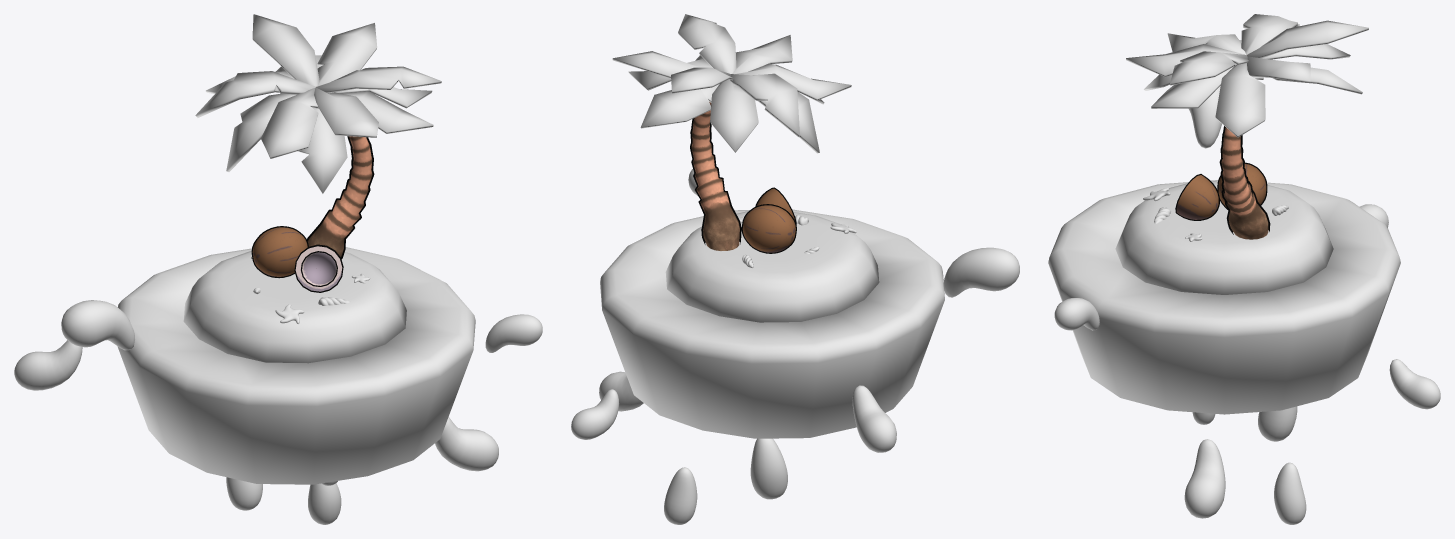
File: Coconut.fbx
The picture shows the model from 3 angles, left to right: view 1: azimuth 30°, elevation 25°; view 2: azimuth 150°, elevation 25°; view 3: azimuth 270°, elevation 25°; orthographic projection. The views are drawn at different scales.
Visible parts, largest first — view 1: Water, Sand, Tree_Trunk, Droplet.002, Leaf.001, Leaf.002, Leaf.005, Droplet.007, Droplet, Coconut_Full, Leaf.006, Leaf.009 (+9 smaller); view 2: Water, Sand, Tree_Trunk, Droplet.002, Leaf.007, Coconut_Full, Leaf.006, Leaf.003, Leaf.011, Droplet.007, Droplet.001, Droplet.006 (+8 smaller); view 3: Water, Sand, Tree_Trunk, Leaf.008, Droplet, Leaf.001, Leaf.003, Droplet.006, Droplet.003, Coconut_Half, Leaf.010, Leaf.006 (+9 smaller).
Boxes of the visible parts, <box> form: Water: <box>117,247,475,484</box>; Sand: <box>183,251,406,363</box>; Tree_Trunk: <box>307,136,374,258</box>; Droplet.002: <box>61,300,134,350</box>; Leaf.001: <box>252,14,319,86</box>; Leaf.002: <box>261,88,318,158</box>; Leaf.005: <box>317,23,377,86</box>; Droplet.007: <box>14,340,82,390</box>; Droplet: <box>435,417,498,471</box>; Coconut_Full: <box>251,226,308,278</box>; Leaf.006: <box>195,71,315,117</box>; Leaf.009: <box>297,107,347,193</box>; Water: <box>600,209,944,438</box>; Sand: <box>665,211,879,322</box>; Tree_Trunk: <box>690,101,741,250</box>; Droplet.002: <box>943,247,1019,297</box>; Leaf.007: <box>710,79,758,152</box>; Coconut_Full: <box>741,204,796,253</box>; Leaf.006: <box>730,73,799,136</box>; Leaf.003: <box>678,14,736,73</box>; Leaf.011: <box>640,84,719,128</box>; Droplet.007: <box>852,385,896,452</box>; Droplet.001: <box>750,438,787,499</box>; Droplet.006: <box>664,467,697,524</box>; Water: <box>1048,180,1400,414</box>; Sand: <box>1115,181,1333,294</box>; Tree_Trunk: <box>1219,126,1270,239</box>; Leaf.008: <box>1215,63,1265,137</box>; Droplet: <box>1184,439,1225,518</box>; Leaf.001: <box>1247,20,1368,58</box>; Leaf.003: <box>1170,51,1248,85</box>; Droplet.006: <box>1274,462,1306,524</box>; Droplet.003: <box>1389,359,1440,409</box>; Coconut_Half: <box>1175,175,1219,220</box>; Leaf.010: <box>1151,63,1236,108</box>; Leaf.006: <box>1241,14,1299,54</box>.
Bounding box in the file's own units: 212 × 230 × 169.
